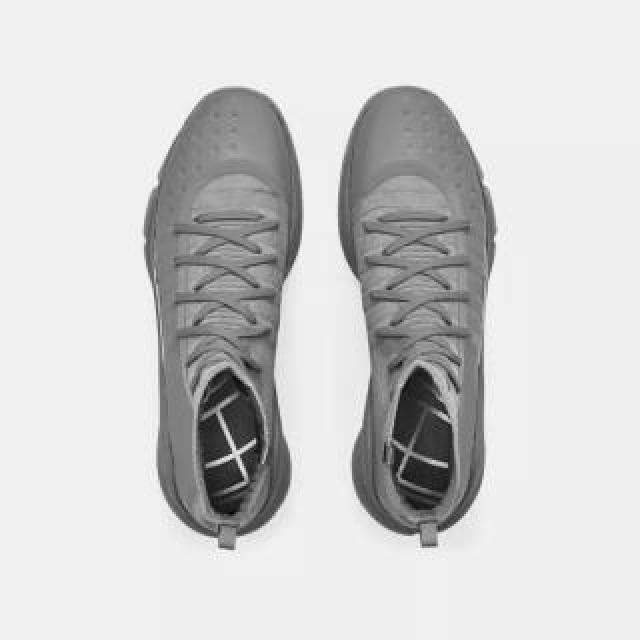shoe: (142, 84, 302, 542), (338, 84, 498, 538)
